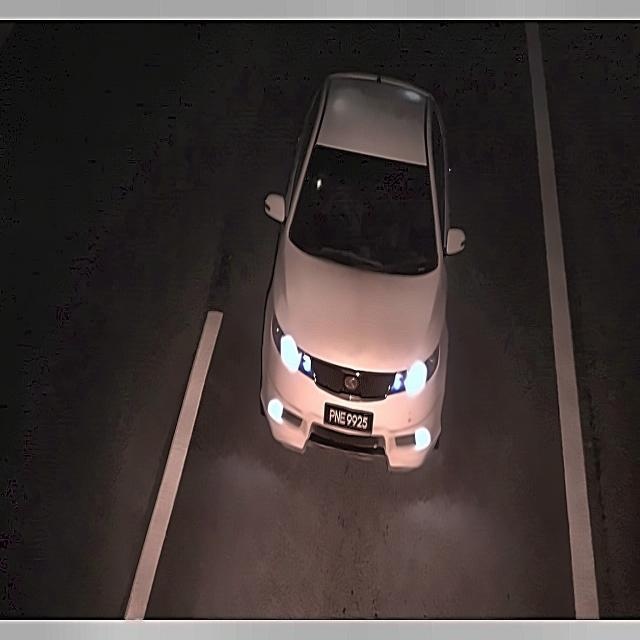car: (322, 394, 375, 441)
